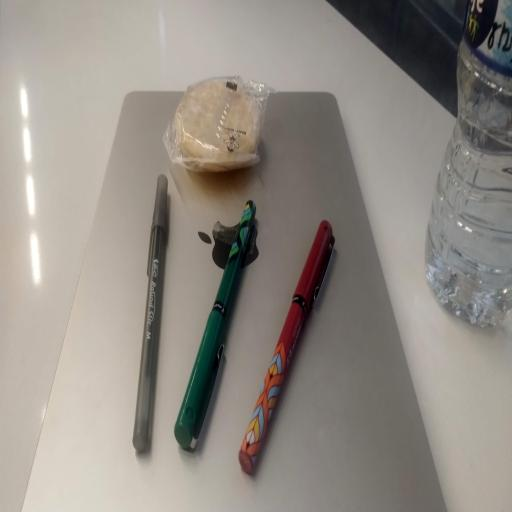pen: (239, 221, 334, 473), (175, 201, 255, 448), (133, 175, 167, 452)
waterbottle: (426, 0, 511, 325)
